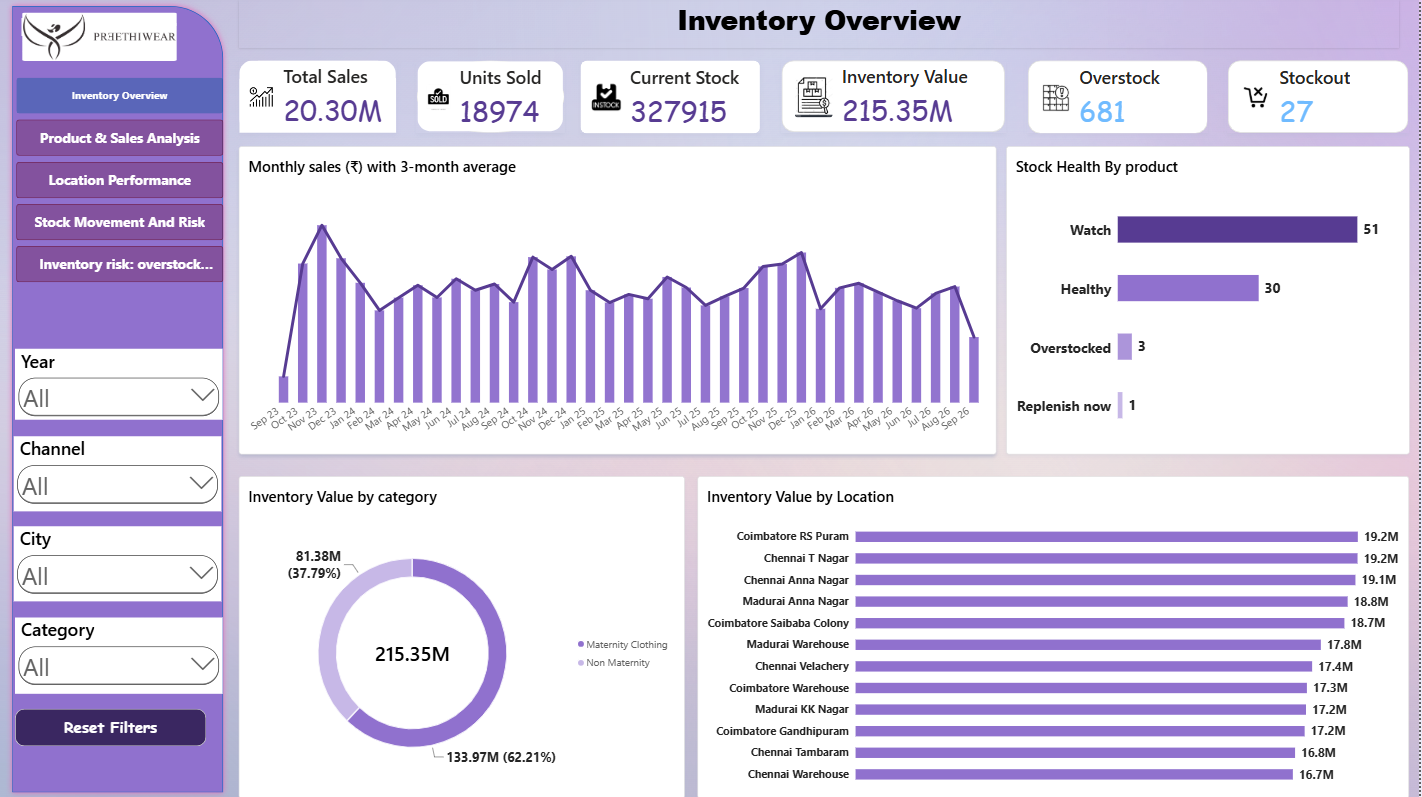

Layout of this report page (visuals, bound fields, positions):
{"tool":"powerbi","page":{"name":"Inventory Overview","canvas":[1920,1080],"ordinal":0},"visuals":[{"type":"shape","box":[8.5,0,301.5,1080],"z":0},{"type":"textbox","title":"Inventory Intelligence","box":[29.9,51.3,259.3,57.6],"z":1000},{"type":"textbox","title":"Preethi Wear","box":[27.1,16.9,290.8,33.8],"z":2000},{"type":"cardVisual","fields":{"Data":["Inventory Transactions.Total Sales"]},"box":[322.9,81.2,213.8,98.4],"z":3000},{"type":"textbox","title":"Inventory Overview","box":[322.7,0,1569.8,64.5],"z":4000},{"type":"cardVisual","fields":{"Data":["Inventory Transactions.Inventory Value"]},"box":[1056.2,81.2,303.6,98.4],"z":5000},{"type":"cardVisual","fields":{"Data":["Inventory Transactions.Current Stock"]},"box":[784.7,81.2,243.7,99.1],"z":6000},{"type":"cardVisual","fields":{"Data":["Inventory Transactions.Overstock Products"]},"box":[1389.8,81.2,243.7,99.1],"z":7000},{"type":"cardVisual","fields":{"Data":["Sum(Inventory Transactions.unit_sold)"]},"box":[562.3,81.2,201,98.4],"z":8000},{"type":"cardVisual","fields":{"Data":["Inventory Transactions.Stockout Products"]},"box":[1660.2,80.5,245.7,99.1],"z":9000},{"type":"lineClusteredColumnComboChart","title":"Monthly sales (₹) with 3-month average","fields":{"Category":["Date.Month Label"],"Y":["Inventory Transactions.Total Sales"],"Y2":["Inventory Transactions.Sales 3M Moving Avg"]},"box":[322.6,198.1,1024.5,417],"z":10000},{"type":"donutChart","fields":{"Category":["Product Details.category"],"Y":["Inventory Transactions.Inventory Value"]},"box":[322.9,644.1,603,435.7],"z":11000},{"type":"clusteredBarChart","title":"Inventory Value by Location","fields":{"Category":["Inventory Locations.location_name"],"Y":["Inventory Transactions.Inventory Value"]},"box":[943.7,644.3,962.3,435.7],"z":12000},{"type":"clusteredBarChart","title":"Stock Health By product","fields":{"Category":["Priority List.Priority"],"Y":["Product Details.Products by Priority"]},"box":[1360.4,198.1,545.3,417],"z":13000},{"type":"pageNavigator","box":[21.4,104.8,280.1,278],"z":18000},{"type":"actionButton","box":[20.3,958.6,258.7,50.7],"z":23000},{"type":"image","box":[25.4,16.9,218.1,65.9],"z":24000},{"type":"slicer","fields":{"Values":["Date.Year"]},"box":[20.3,471.7,280.7,96.4],"z":24001},{"type":"slicer","fields":{"Values":["Inventory Locations.Channel"]},"box":[18.6,590,280.7,101.4],"z":24002},{"type":"slicer","fields":{"Values":["Inventory Locations.City"]},"box":[18.6,711.8,280.7,101.4],"z":24003},{"type":"slicer","fields":{"Values":["Product Details.category"]},"box":[20.3,835.2,280.7,103.1],"z":24004}]}

Visuals, with their boxes in screenshot pixels (x1, y1, x2, y2), scaled from the page's 1920x1080 canvas onto the 1422x797 screenshot:
shape: (6,0,230,796)
"Inventory Intelligence" textbox: (22,38,214,80)
"Preethi Wear" textbox: (20,12,235,37)
cardVisual - Inventory Transactions.Total Sales: (239,60,397,133)
"Inventory Overview" textbox: (239,0,1402,48)
cardVisual - Inventory Transactions.Inventory Value: (782,60,1007,133)
cardVisual - Inventory Transactions.Current Stock: (581,60,762,133)
cardVisual - Inventory Transactions.Overstock Products: (1029,60,1210,133)
cardVisual - Sum(Inventory Transactions.unit_sold): (416,60,565,133)
cardVisual - Inventory Transactions.Stockout Products: (1230,59,1412,133)
"Monthly sales (₹) with 3-month average" lineClusteredColumnComboChart: (239,146,998,454)
donutChart - Product Details.category x Inventory Transactions.Inventory Value: (239,475,686,796)
"Inventory Value by Location" clusteredBarChart: (699,475,1412,796)
"Stock Health By product" clusteredBarChart: (1008,146,1411,454)
pageNavigator: (16,77,223,282)
actionButton: (15,707,207,745)
image: (19,12,180,61)
slicer - Date.Year: (15,348,223,419)
slicer - Inventory Locations.Channel: (14,435,222,510)
slicer - Inventory Locations.City: (14,525,222,600)
slicer - Product Details.category: (15,616,223,692)
